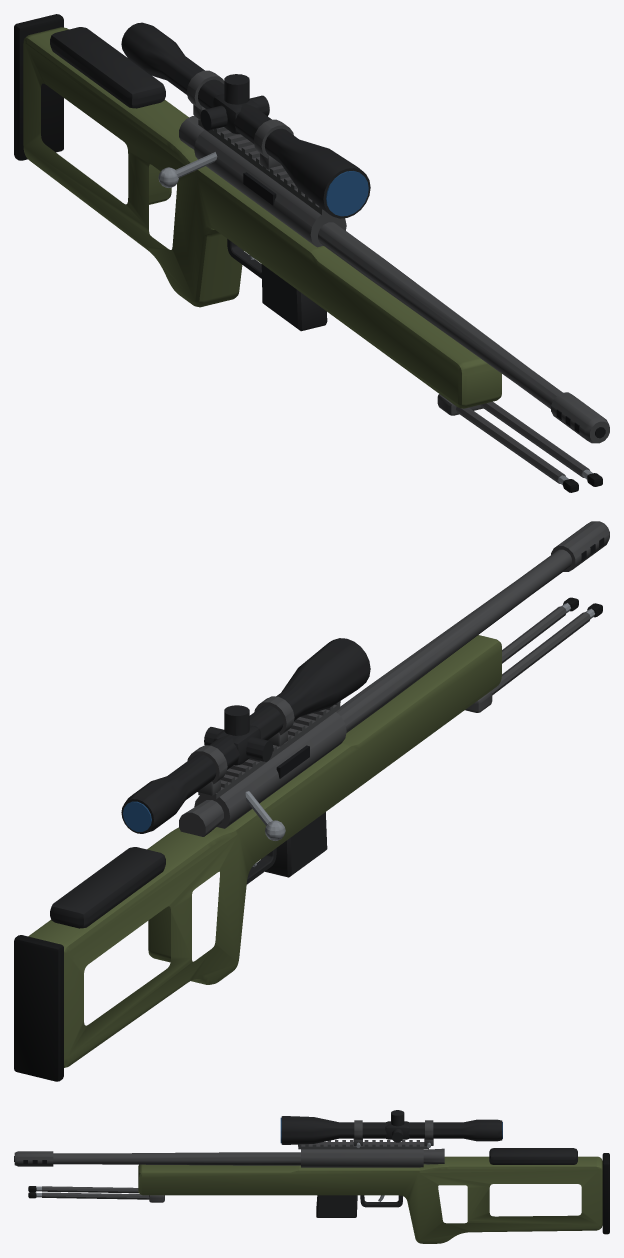
The model's file is rifle.glb.
The picture shows the model from 3 angles, top to bottom: view 1: azimuth 30°, elevation 25°; view 2: azimuth 150°, elevation 25°; view 3: azimuth 270°, elevation 25°; orthographic projection. The views are drawn at different scales.
Visible parts, largest first — view 1: rifle_body, magazine, bipod_leg_r, bipod_leg_l; view 2: rifle_body, magazine, bipod_leg_r, bipod_leg_l; view 3: rifle_body, magazine, bipod_leg_l, bipod_leg_r.
Boxes of the visible parts, x1=… form: rifle_body: x1=14, y1=14, x2=609, y2=443; magazine: x1=261, y1=264, x2=327, y2=331; bipod_leg_r: x1=456, y1=407, x2=578, y2=492; bipod_leg_l: x1=480, y1=401, x2=602, y2=486; rifle_body: x1=14, y1=521, x2=609, y2=1081; magazine: x1=265, y1=812, x2=327, y2=877; bipod_leg_r: x1=491, y1=603, x2=602, y2=695; bipod_leg_l: x1=502, y1=597, x2=578, y2=663; rifle_body: x1=14, y1=1110, x2=609, y2=1243; magazine: x1=316, y1=1195, x2=357, y2=1217; bipod_leg_l: x1=28, y1=1192, x2=149, y2=1199; bipod_leg_r: x1=28, y1=1186, x2=138, y2=1193.
Bounding box in the file's own units: 0.1045 × 0.267 × 1.14.
